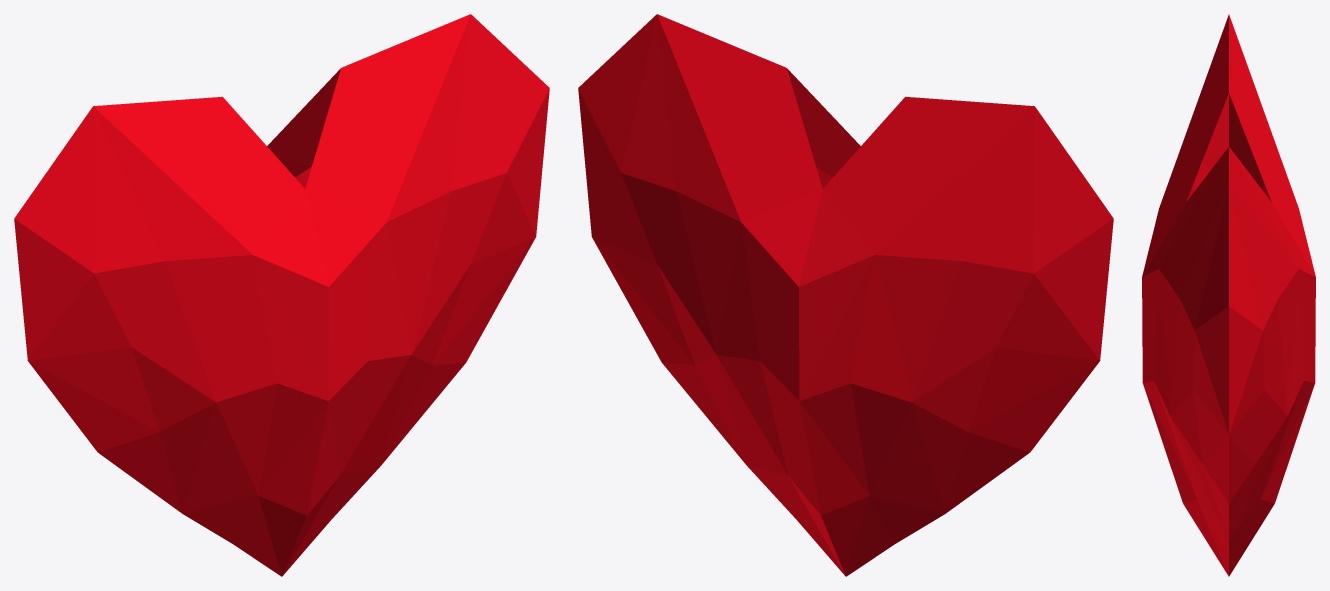
File: heart.glb
3 views of the same model, side by side, from view 1: azimuth 30°, elevation 25°; view 2: azimuth 150°, elevation 25°; view 3: azimuth 270°, elevation 25° (orthographic). The views are drawn at different scales.
Visible parts, largest first — view 1: Cube; view 2: Cube; view 3: Cube.
Boxes of the visible parts, x1,y1,x2,y2 form: Cube: (14,14,549,576); Cube: (578,14,1113,576); Cube: (1142,14,1315,576).
Bounding box in the file's own units: 2.23 × 2.06 × 0.6796.
1 material, 1 textured.
